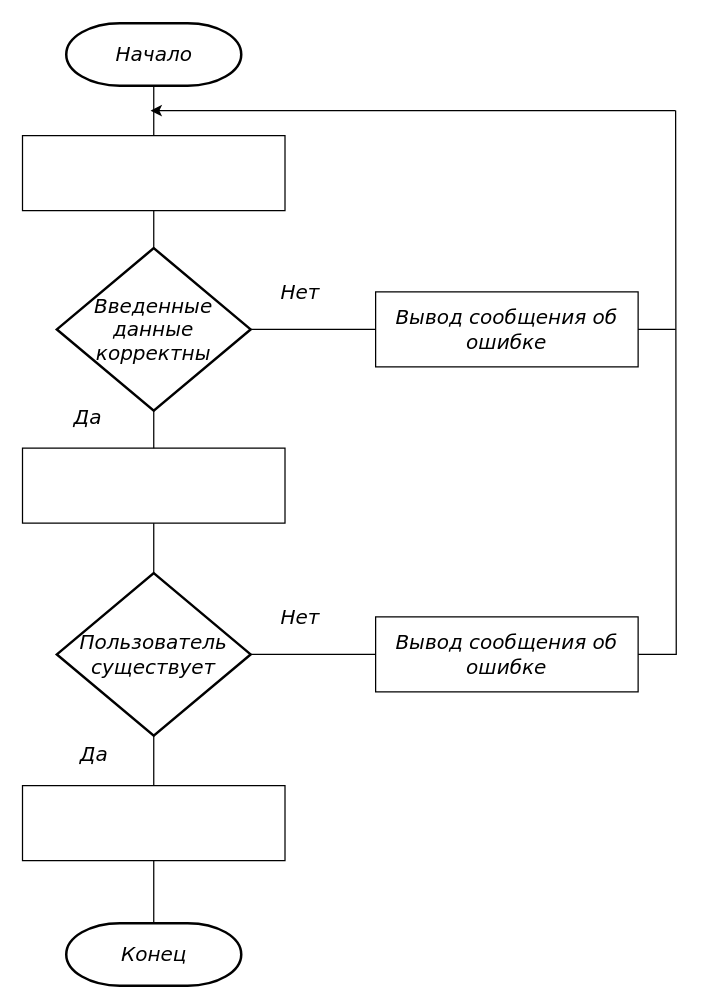
Some shapes in this 708 by 1008 pixel diagram are drawn without their labels. Here are the shapes that lost their labels. From the top down, the centre of each, then its label:
At [153,172]: "Ввод имени пользователя и пароля".
At [153,485]: "Запрос к БД на соответствие имени пользователя и пароля".
At [153,822]: "Авторизация пользователя".
